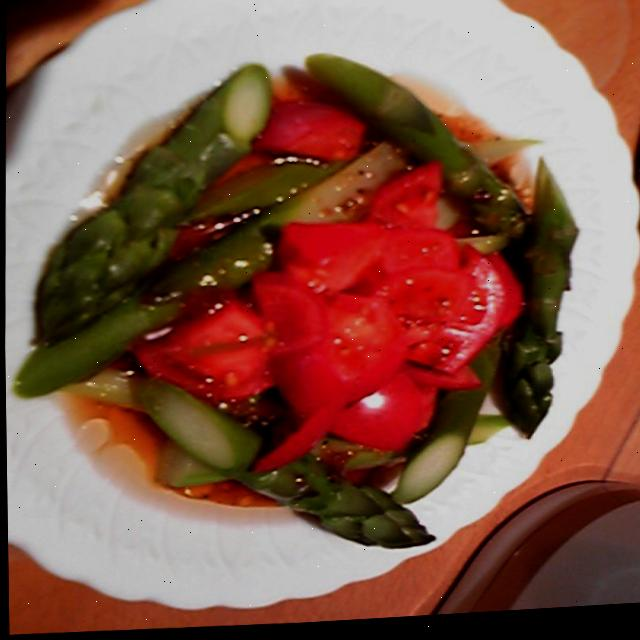蔬菜料理: (20, 22, 599, 575)
